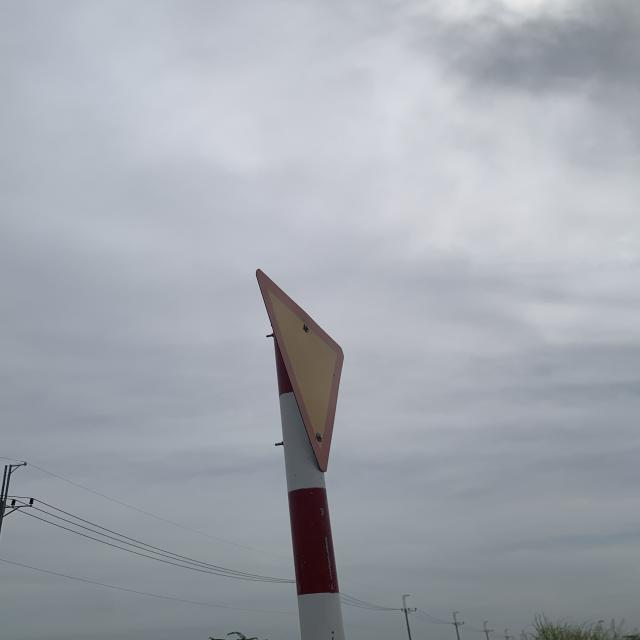Gioi_Han_Toc_Do_25: (256, 269, 343, 474)
